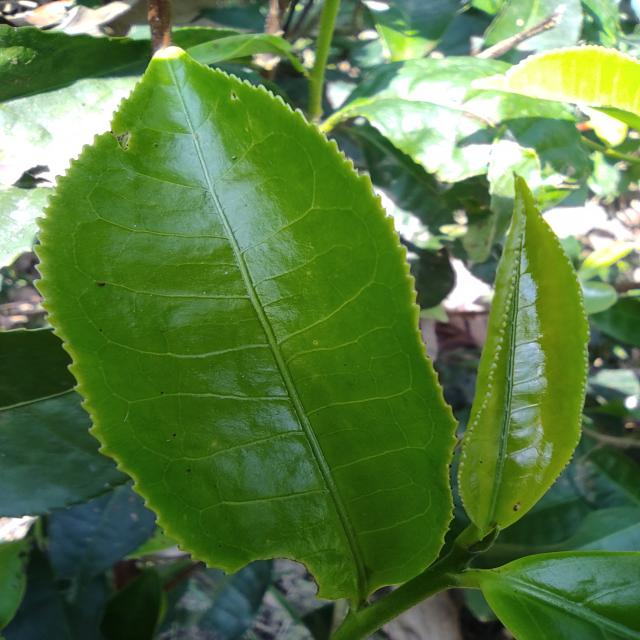Category C(4-7 days): (36, 32, 484, 604)
